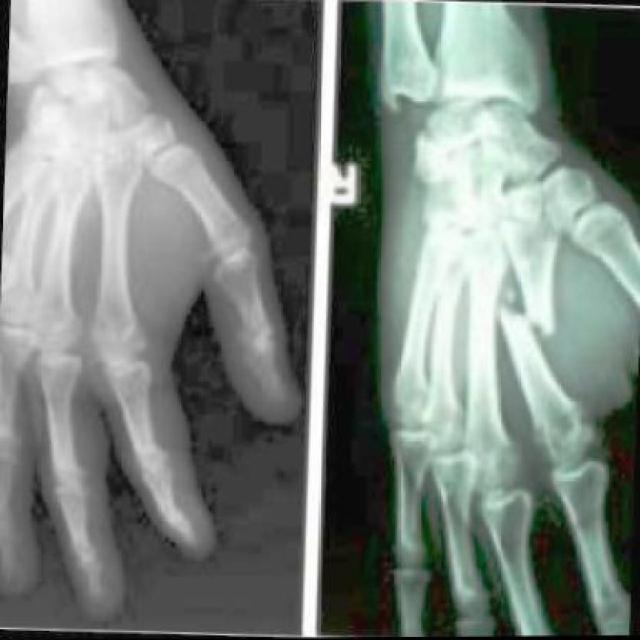Fracture: (491, 297, 562, 359)
